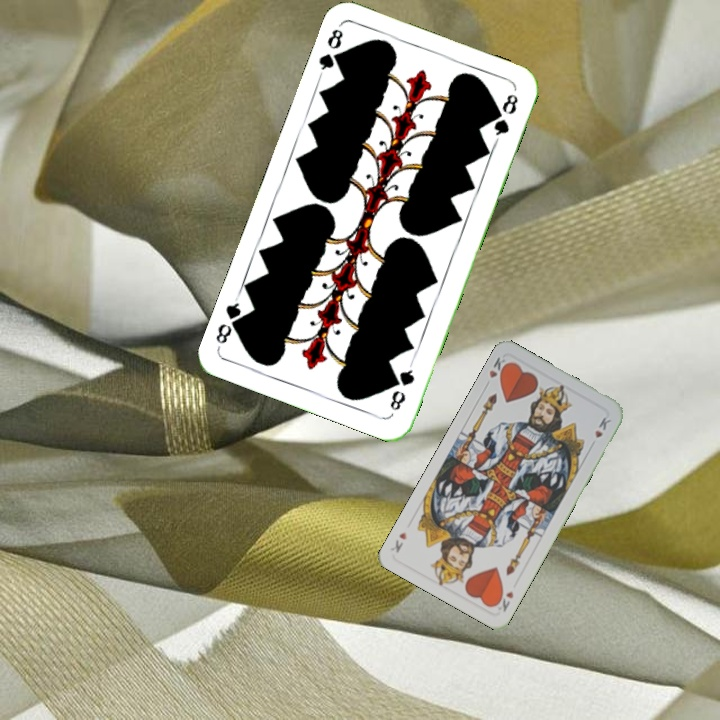G8: (314, 22, 348, 79), (386, 365, 418, 414)
HK: (481, 352, 512, 390), (491, 586, 516, 614)
